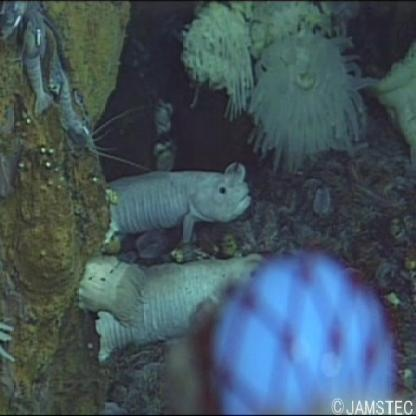Bio: (77, 163, 271, 365), (2, 1, 114, 162)
